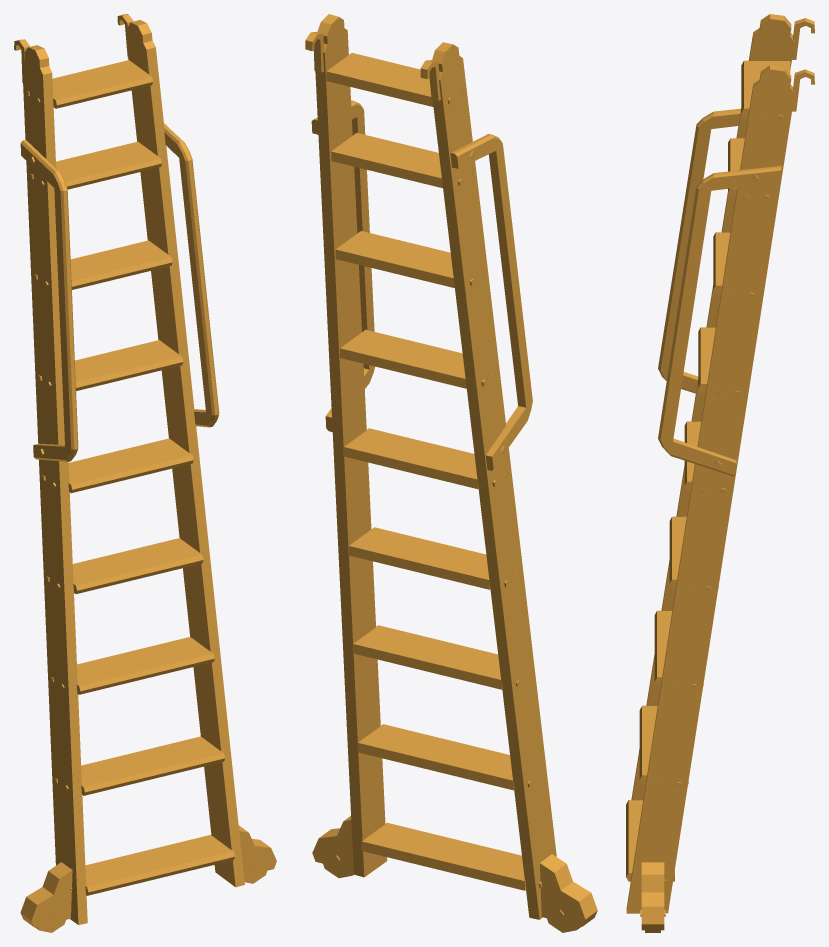
Rendered from SM_Ladder_Sliding_Handles.fbx.
3 views of the same model, side by side, from view 1: azimuth 30°, elevation 25°; view 2: azimuth 150°, elevation 25°; view 3: azimuth 270°, elevation 25° (orthographic). The views are drawn at different scales.
Visible parts, largest first — view 1: ladder-sliding-handles; view 2: ladder-sliding-handles; view 3: ladder-sliding-handles.
Boxes of the visible parts, bbox=[...] form: ladder-sliding-handles: bbox=[14, 14, 276, 932]; ladder-sliding-handles: bbox=[305, 14, 597, 932]; ladder-sliding-handles: bbox=[626, 14, 814, 932].
Bounding box in the file's own units: 0.8923 × 2.87 × 0.5843.
